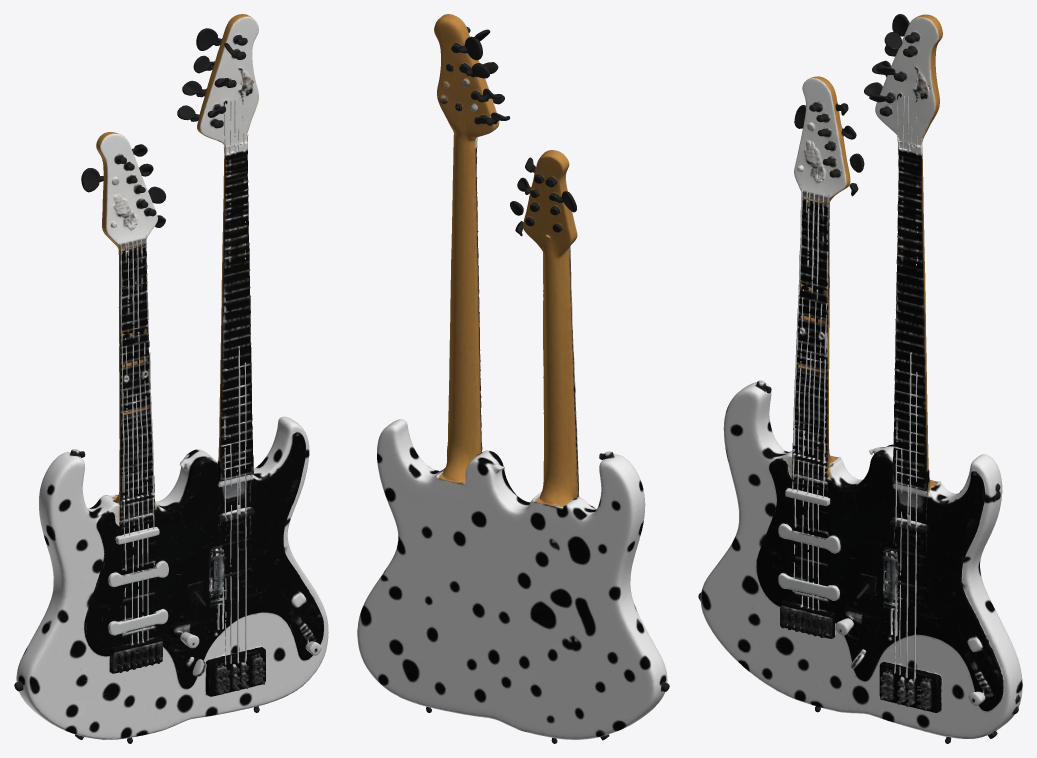
Rendered from guitar.glb.
3 renders of one model, left to right at view 1: azimuth 30°, elevation 25°; view 2: azimuth 150°, elevation 25°; view 3: azimuth 330°, elevation 25°, orthographic. The views are drawn at different scales.
Parts seen in each view (by area): view 1: world; view 2: world; view 3: world.
Boxes of the visible parts, x1,y1,x2,y2 form: world: (14,14,328,743); world: (357,14,669,743); world: (698,14,1022,743).
Size of the model in its own units: 0.4615 by 0.9998 by 0.0925.
Materials: 1 (1 with a texture image).
